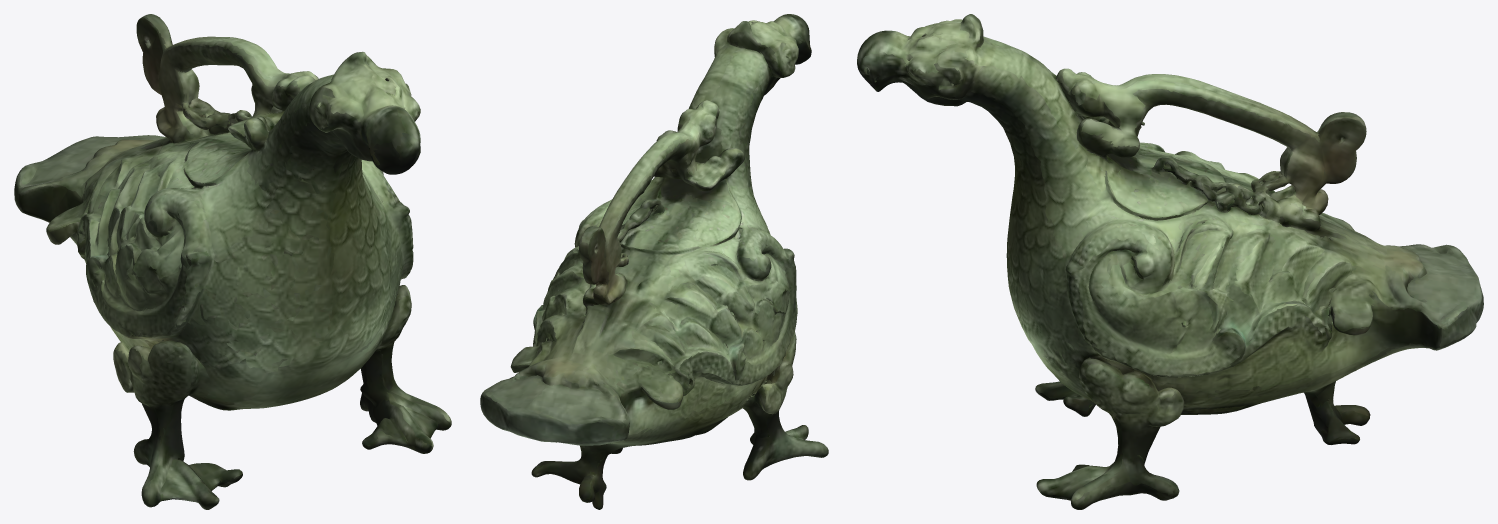
Rendered from bird-zun-mobile.glb.
The picture shows the model from 3 angles, left to right: view 1: azimuth 30°, elevation 25°; view 2: azimuth 150°, elevation 25°; view 3: azimuth 270°, elevation 25°; orthographic projection. The views are drawn at different scales.
Visible parts, largest first — view 1: P01_Body, P08_Relief, P03_Tiger_Handle, P05_Foot_L, P06_Foot_R, P04_Beak_Spout, P02_Back_Lid; view 2: P01_Body, P08_Relief, P03_Tiger_Handle, P02_Back_Lid, P05_Foot_L, P07_Tail_Support, P04_Beak_Spout; view 3: P08_Relief, P01_Body, P03_Tiger_Handle, P06_Foot_R, P02_Back_Lid, P07_Tail_Support, P04_Beak_Spout, P05_Foot_L.
Boxes of the visible parts, box(x1,y1,x2,y2) form: P01_Body: box(14, 51, 420, 408); P08_Relief: box(46, 160, 413, 400); P03_Tiger_Handle: box(136, 14, 318, 171); P05_Foot_L: box(133, 396, 299, 509); P06_Foot_R: box(294, 349, 451, 453); P04_Beak_Spout: box(364, 105, 420, 174); P02_Back_Lid: box(180, 134, 249, 189); P01_Body: box(480, 20, 802, 455); P08_Relief: box(510, 199, 797, 443); P03_Tiger_Handle: box(579, 100, 744, 305); P02_Back_Lid: box(621, 177, 739, 250); P05_Foot_L: box(667, 410, 828, 480); P07_Tail_Support: box(531, 445, 645, 509); P04_Beak_Spout: box(773, 14, 811, 64); P08_Relief: box(1060, 142, 1387, 422); P01_Body: box(899, 14, 1483, 433); P03_Tiger_Handle: box(1056, 68, 1366, 199); P06_Foot_R: box(1036, 403, 1259, 509); P02_Back_Lid: box(1094, 154, 1218, 207); P07_Tail_Support: box(1304, 385, 1370, 444); P04_Beak_Spout: box(857, 30, 903, 91); P05_Foot_L: box(1035, 381, 1095, 416).
Bounding box in the file's own units: 0.6855 × 0.9876 × 1.28.
1 material, 1 textured.
